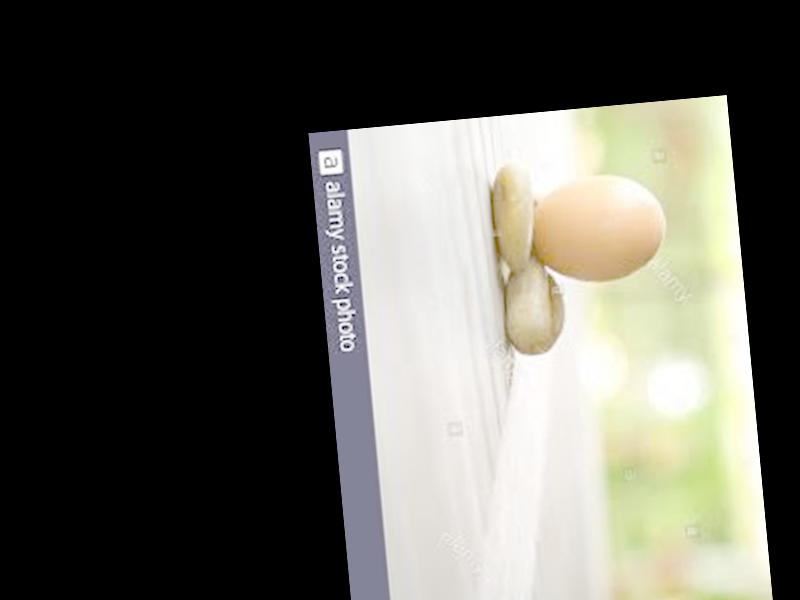Eggs: (527, 168, 668, 288)
